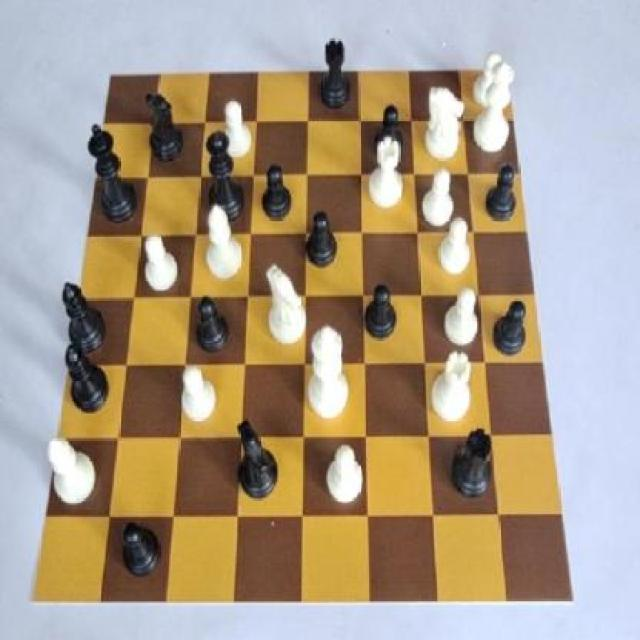bishop: (52, 271, 113, 361), (60, 335, 111, 421)
black-bishop: (80, 119, 138, 232)
black-king: (226, 414, 282, 502), (140, 81, 188, 172)
black-knight: (116, 516, 166, 592), (352, 274, 403, 346), (192, 284, 236, 362), (368, 102, 415, 174), (256, 162, 302, 229), (492, 288, 533, 363), (480, 161, 522, 227), (303, 203, 342, 272)
black-pawn: (200, 122, 248, 230)
black-queen: (442, 421, 501, 504), (312, 32, 356, 114)
black-rook: (46, 430, 101, 508), (201, 200, 244, 284)
white-bishop: (302, 323, 356, 425)
white-king: (258, 257, 310, 352), (420, 78, 465, 170)
white-knight: (317, 438, 373, 512), (438, 277, 491, 355), (469, 34, 517, 113), (176, 354, 220, 431), (140, 222, 183, 298), (414, 159, 458, 233), (434, 208, 476, 283), (214, 90, 253, 162)
white-pawn: (471, 54, 520, 164)
white-queen: (425, 343, 479, 429), (360, 132, 411, 215)
